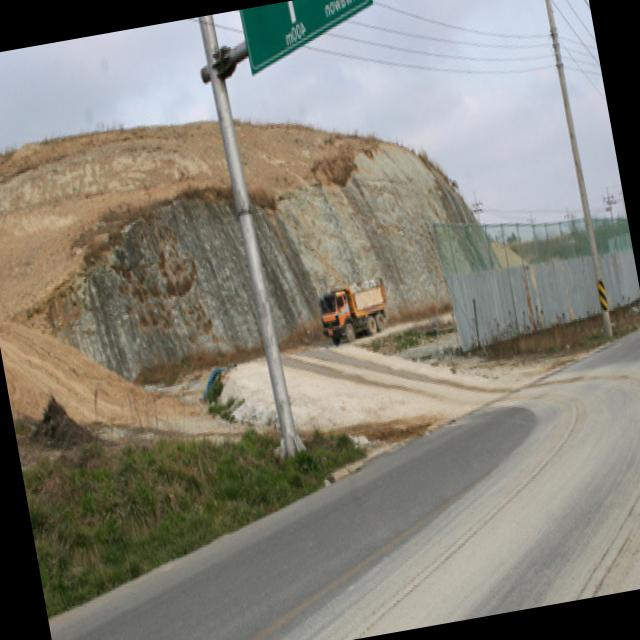asphalt: (48, 330, 640, 640)
red-sand: (0, 120, 232, 313), (0, 318, 224, 433), (236, 121, 377, 202)
white-sand: (284, 337, 555, 430), (223, 358, 278, 425)
